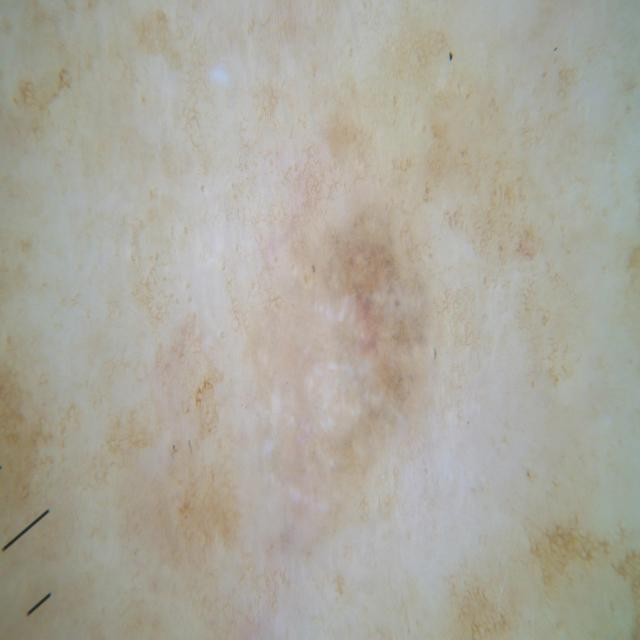Skin-Cancer Melanoma: (9, 14, 640, 640)
